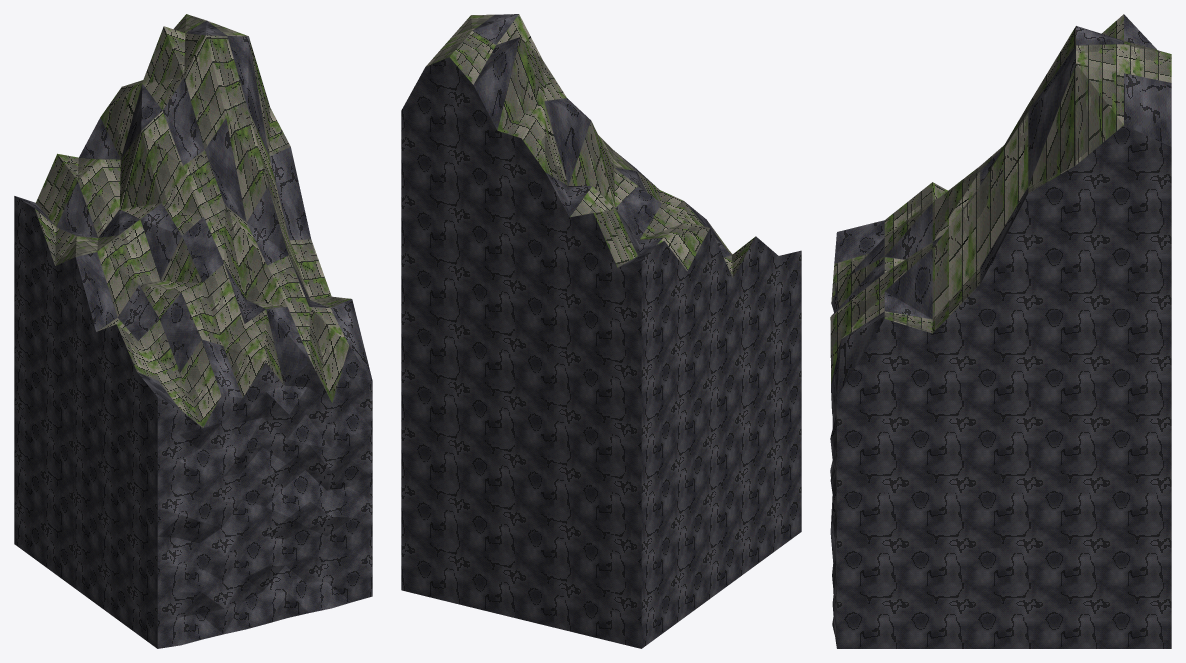
The model's file is monte_b.obj.
The picture shows the model from 3 angles, left to right: view 1: azimuth 30°, elevation 25°; view 2: azimuth 150°, elevation 25°; view 3: azimuth 270°, elevation 25°; orthographic projection. The views are drawn at different scales.
Parts seen in each view (by area): view 1: monte_b; view 2: monte_b; view 3: monte_b.
Part boxes in pixels (left/top/right/bottom): monte_b: left=14, top=14, right=372, bottom=648; monte_b: left=401, top=14, right=801, bottom=648; monte_b: left=830, top=14, right=1171, bottom=648.
Size of the model in its own units: 26 by 57.97 by 30.6.
Materials: 2 (2 with a texture image).
